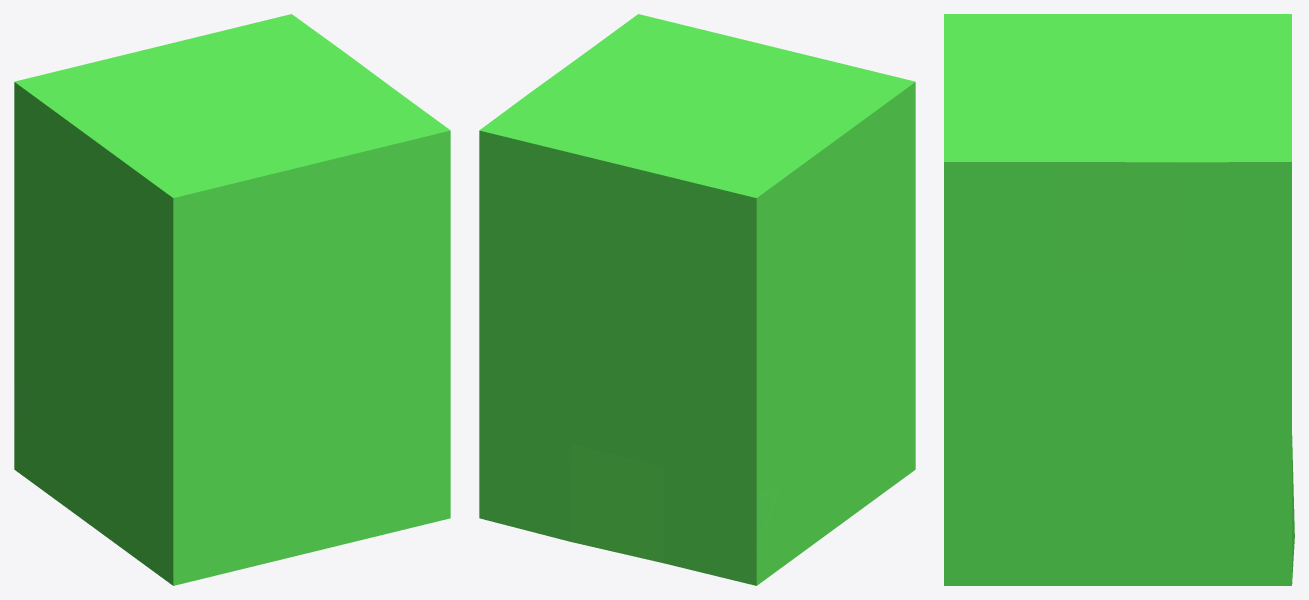
File: Tiles3D_Sol_angle_ext_N.fbx
The picture shows the model from 3 angles, left to right: view 1: azimuth 30°, elevation 25°; view 2: azimuth 150°, elevation 25°; view 3: azimuth 270°, elevation 25°; orthographic projection. The views are drawn at different scales.
Parts seen in each view (by area): view 1: Tiles3D_sol_angle_ext_N; view 2: Tiles3D_sol_angle_ext_N; view 3: Tiles3D_sol_angle_ext_N.
Boxes of the visible parts, box(x1,y1,x2,y2) form: Tiles3D_sol_angle_ext_N: box(14, 14, 450, 585); Tiles3D_sol_angle_ext_N: box(479, 14, 915, 585); Tiles3D_sol_angle_ext_N: box(944, 14, 1294, 585).
Bounding box in the file's own units: 75 × 100 × 75.
Materials: 1 (1 with a texture image).
